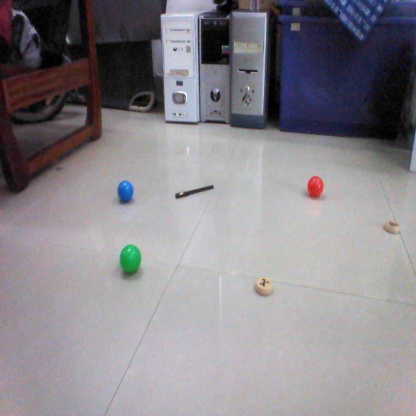ball: (116, 242, 146, 274), (304, 174, 328, 200), (114, 179, 137, 205)
chess: (252, 277, 275, 294), (382, 219, 401, 236)
pen: (175, 182, 216, 197)
